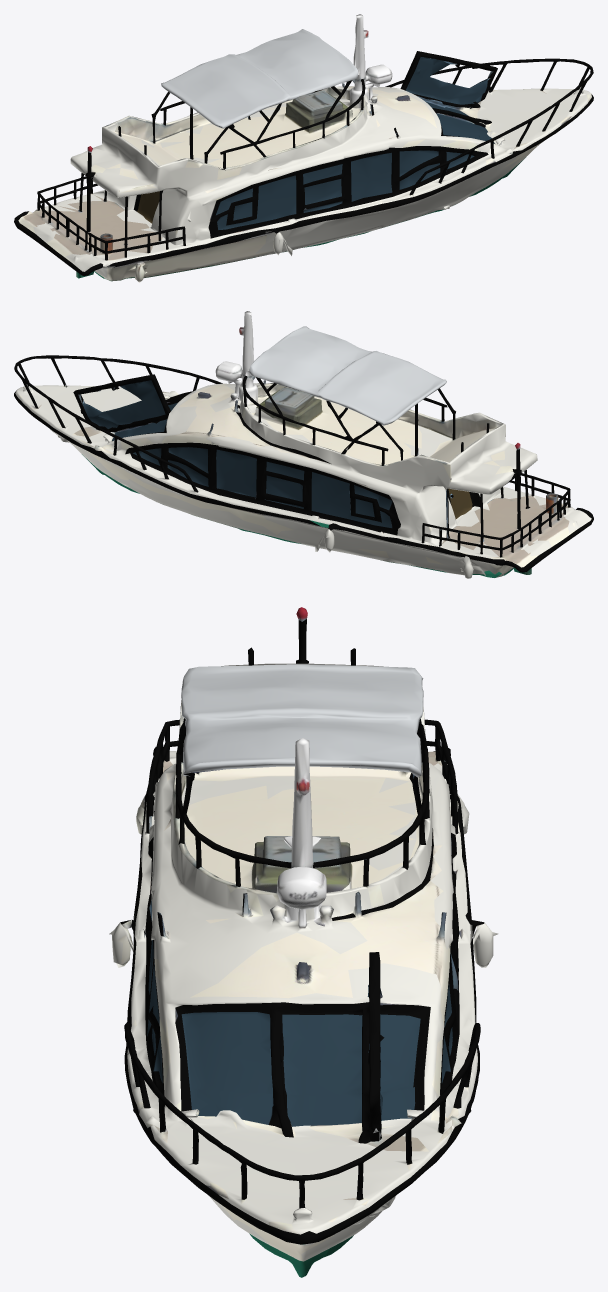
File: boat customized 1.glb
The picture shows the model from 3 angles, top to bottom: view 1: azimuth 30°, elevation 25°; view 2: azimuth 150°, elevation 25°; view 3: azimuth 270°, elevation 25°; orthographic projection. The views are drawn at different scales.
Parts seen in each view (by area): view 1: tripo_node_a39e3661-099f-4dfd-be06-26e35b15228d; view 2: tripo_node_a39e3661-099f-4dfd-be06-26e35b15228d; view 3: tripo_node_a39e3661-099f-4dfd-be06-26e35b15228d.
Boxes of the visible parts, x1=… form: tripo_node_a39e3661-099f-4dfd-be06-26e35b15228d: x1=14, y1=14, x2=593, y2=282; tripo_node_a39e3661-099f-4dfd-be06-26e35b15228d: x1=14, y1=311, x2=593, y2=578; tripo_node_a39e3661-099f-4dfd-be06-26e35b15228d: x1=109, y1=607, x2=498, y2=1277.
Size of the model in its own units: 1.9 by 0.666 by 0.5891.
7 materials, 1 textured.
